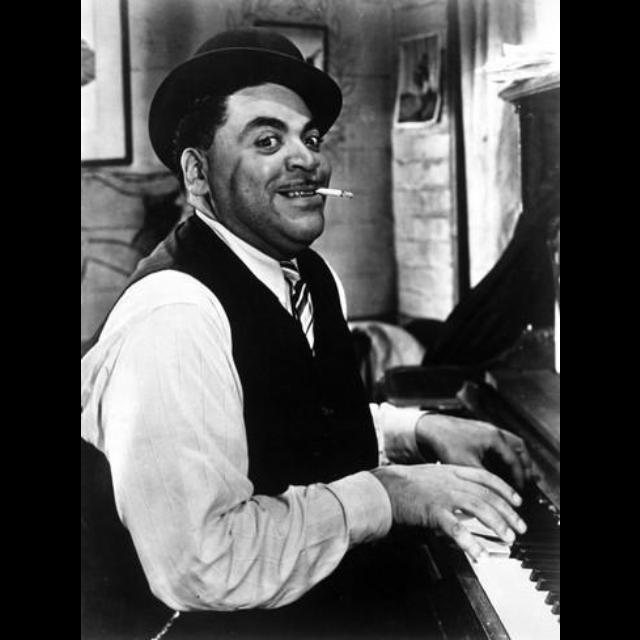rokok: (317, 188, 361, 200)
